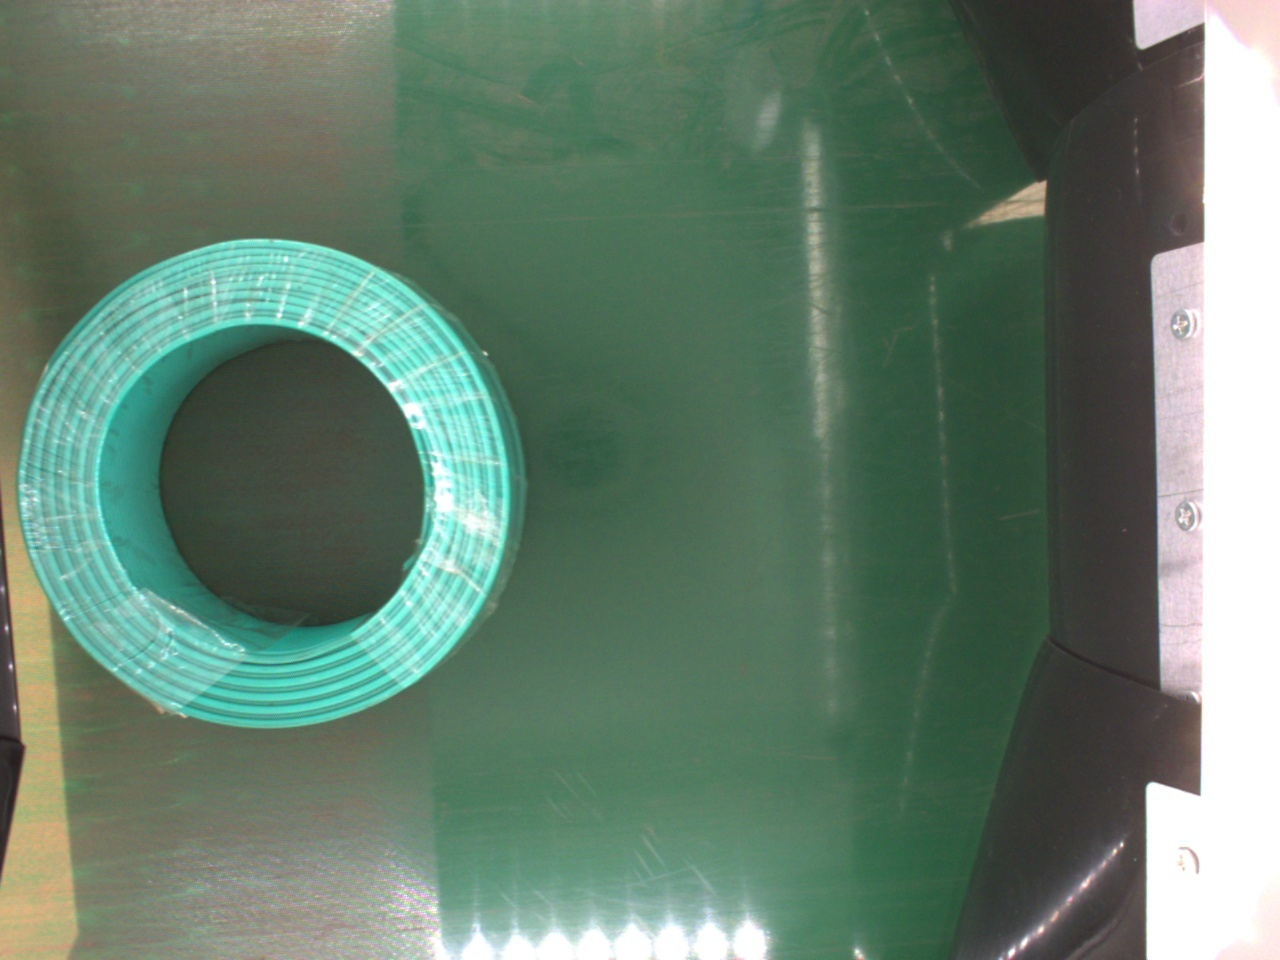green: (18, 232, 525, 734)
